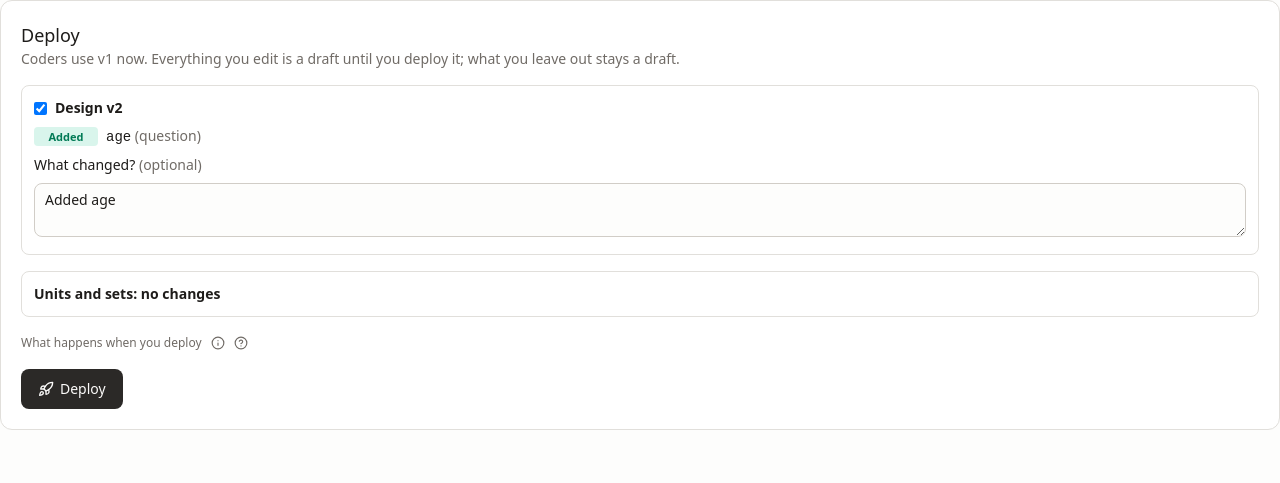
the deploy panel › a refused deploy says why, keeps the changed note, and can be tried again
Replace the text in the text box labelled "What changed? (optional)" with "My note" at (640, 210), box [34,183,1246,237]
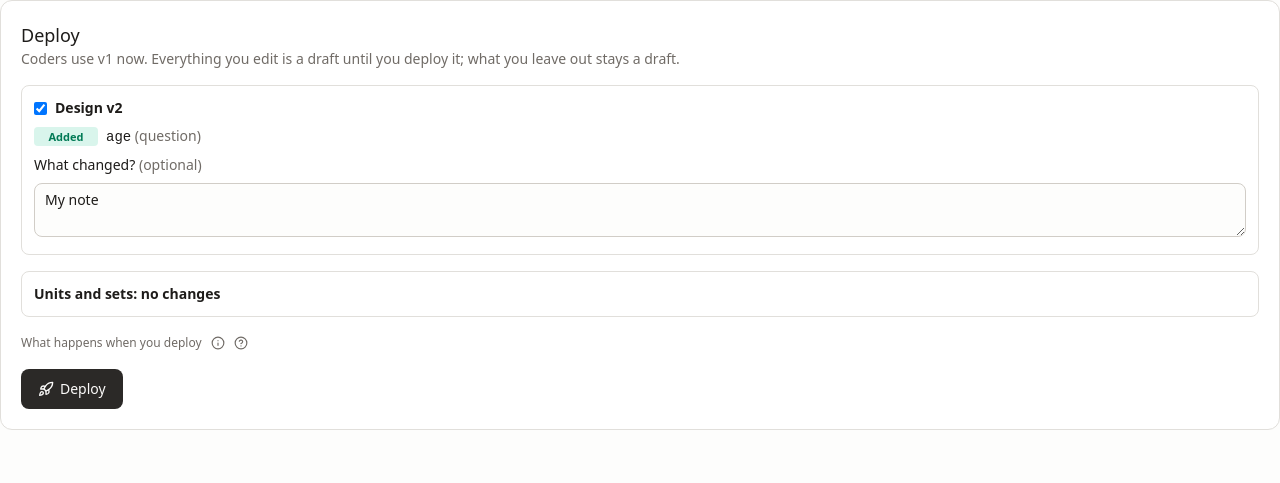
Click the button "Deploy" at (72, 389), box [21,369,123,409]
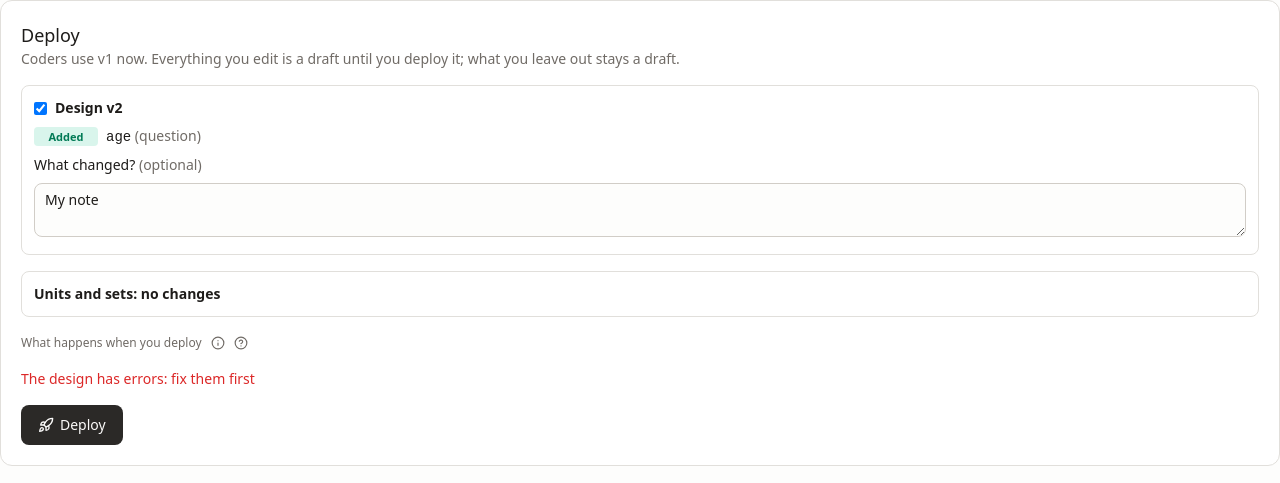
Check: the text "The design has errors: fix them first" is shown, box [21,369,255,388]
Click the button "Deploy" at (72, 425), box [21,405,123,445]
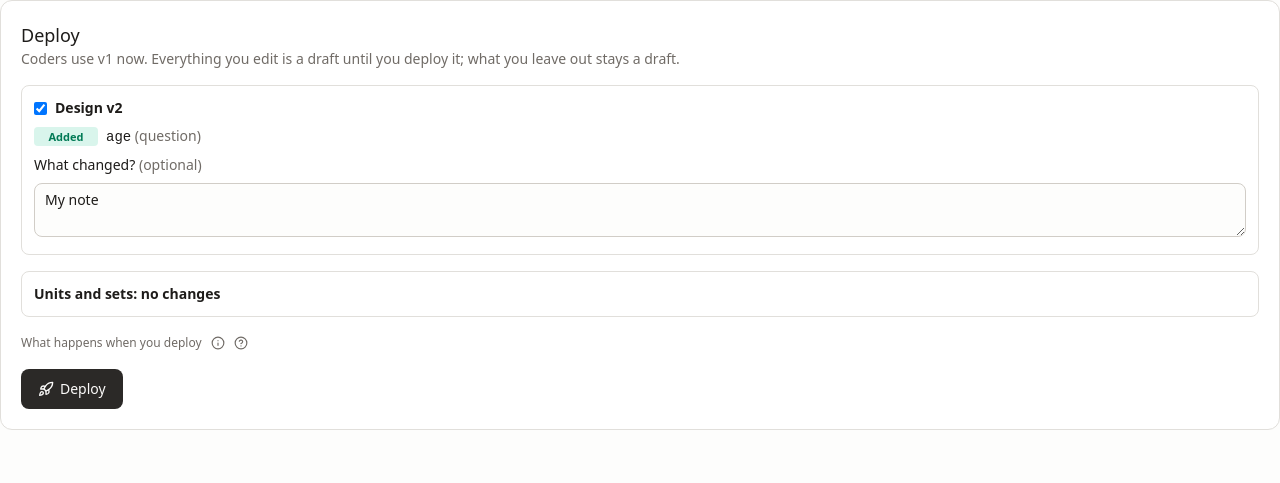
Check: the text "The design has errors: fix them first" is gone
